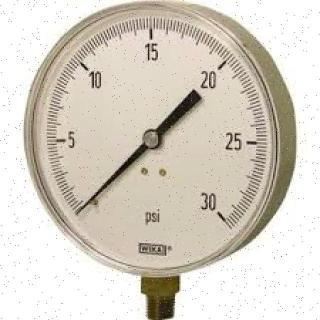gauge: (6, 0, 306, 284), (197, 191, 234, 233), (68, 194, 95, 223), (141, 128, 162, 150), (72, 203, 86, 219)
